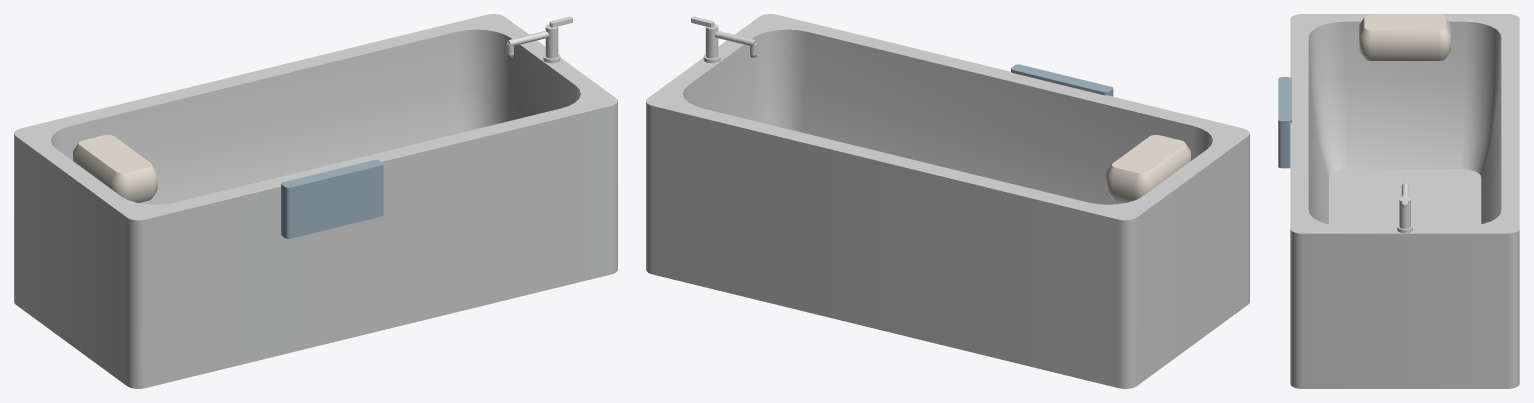
3 views of the same model, side by side, from view 1: azimuth 30°, elevation 25°; view 2: azimuth 150°, elevation 25°; view 3: azimuth 270°, elevation 25° (orthographic). The views are drawn at different scales.
Visible parts, largest first — view 1: Bồn tắm Dài bồn=1700; Rộng bồn=750; view 2: Bồn tắm Dài bồn=1700; Rộng bồn=750; view 3: Bồn tắm Dài bồn=1700; Rộng bồn=750.
Boxes of the visible parts, x1,y1,x2,y2 form: Bồn tắm Dài bồn=1700; Rộng bồn=750: [14, 14, 617, 388]; Bồn tắm Dài bồn=1700; Rộng bồn=750: [646, 14, 1249, 388]; Bồn tắm Dài bồn=1700; Rộng bồn=750: [1278, 14, 1519, 388].
Bounding box in the file's own units: 1.74 × 0.684 × 0.79.
